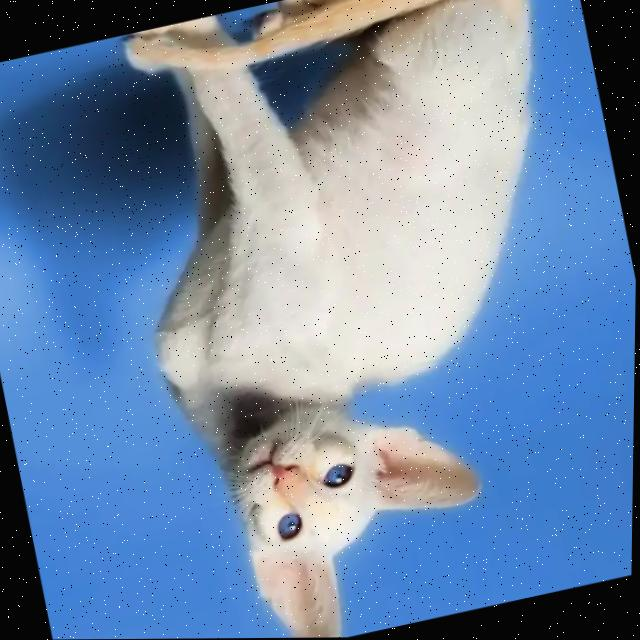Oriental: (77, 0, 640, 640)
